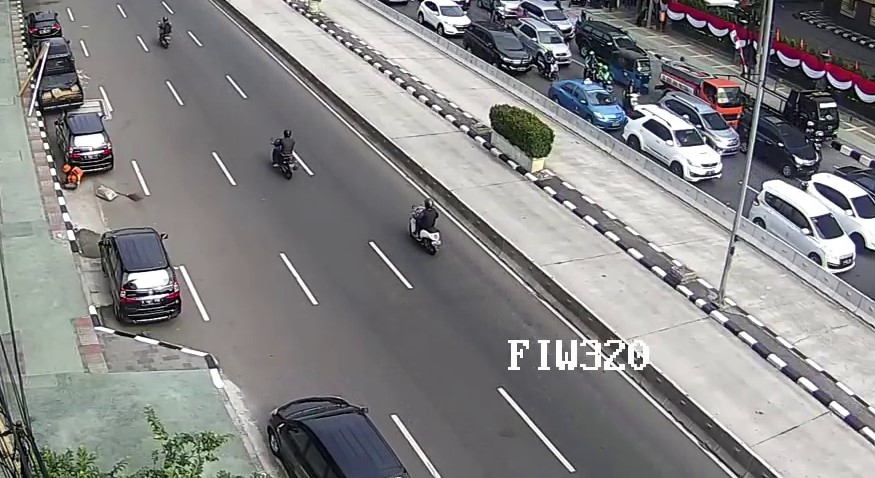car: (271, 395, 408, 478), (749, 180, 856, 276), (714, 70, 841, 143), (623, 102, 722, 186), (101, 226, 182, 327), (659, 61, 739, 130), (659, 90, 738, 159), (739, 112, 820, 179), (809, 170, 875, 251), (464, 17, 532, 78), (29, 39, 84, 111), (550, 80, 624, 132), (57, 111, 114, 176), (576, 19, 636, 73), (511, 16, 571, 66), (518, 1, 573, 39), (416, 1, 469, 38), (612, 48, 650, 95), (25, 11, 63, 38)
motorbike: (412, 197, 441, 255), (273, 128, 294, 182), (536, 49, 559, 80), (585, 51, 598, 85), (623, 78, 638, 107), (599, 65, 612, 97), (159, 17, 172, 48)
